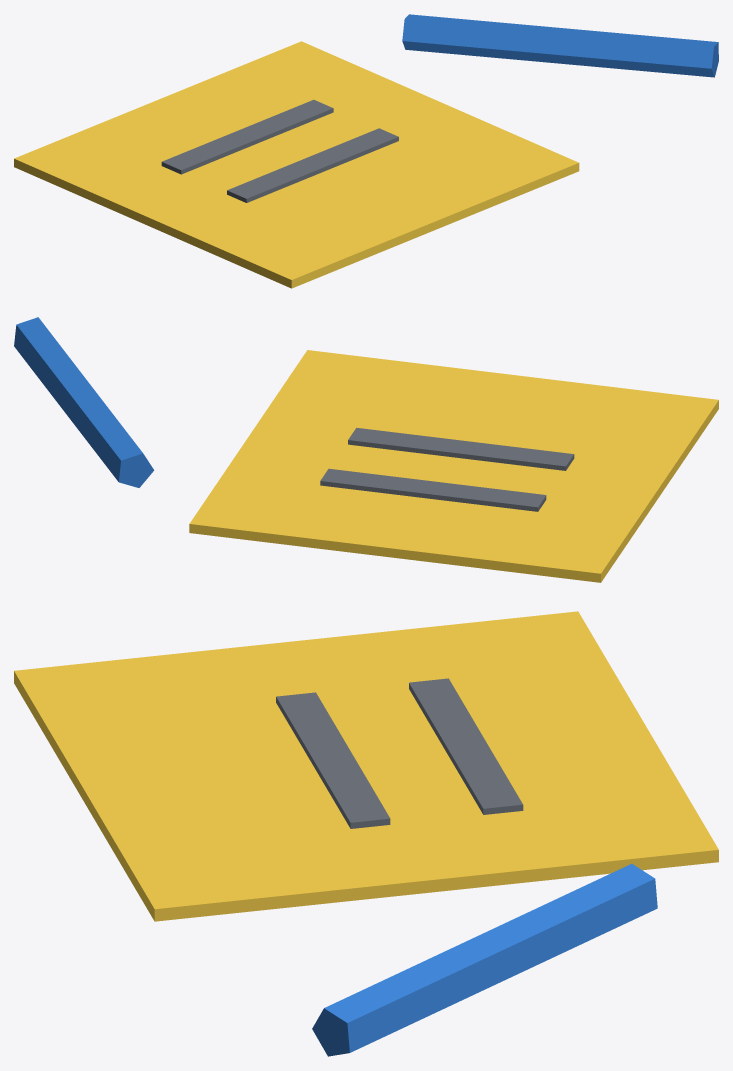
File: station_transport_ausstattung_2_0.glb
3 views of the same model, one above another, from view 1: azimuth 30°, elevation 25°; view 2: azimuth 150°, elevation 25°; view 3: azimuth 270°, elevation 25° (orthographic). The views are drawn at different scales.
Visible parts, largest first — view 1: station_transport_ausstattung_2_0; view 2: station_transport_ausstattung_2_0; view 3: station_transport_ausstattung_2_0.
Part boxes in pixels (x1,y1,x2,y2): station_transport_ausstattung_2_0: (14,14,718,288); station_transport_ausstattung_2_0: (14,317,718,582); station_transport_ausstattung_2_0: (14,611,718,1056).
Bounding box in the file's own units: 0.3077 × 0.0163 × 0.2061.
